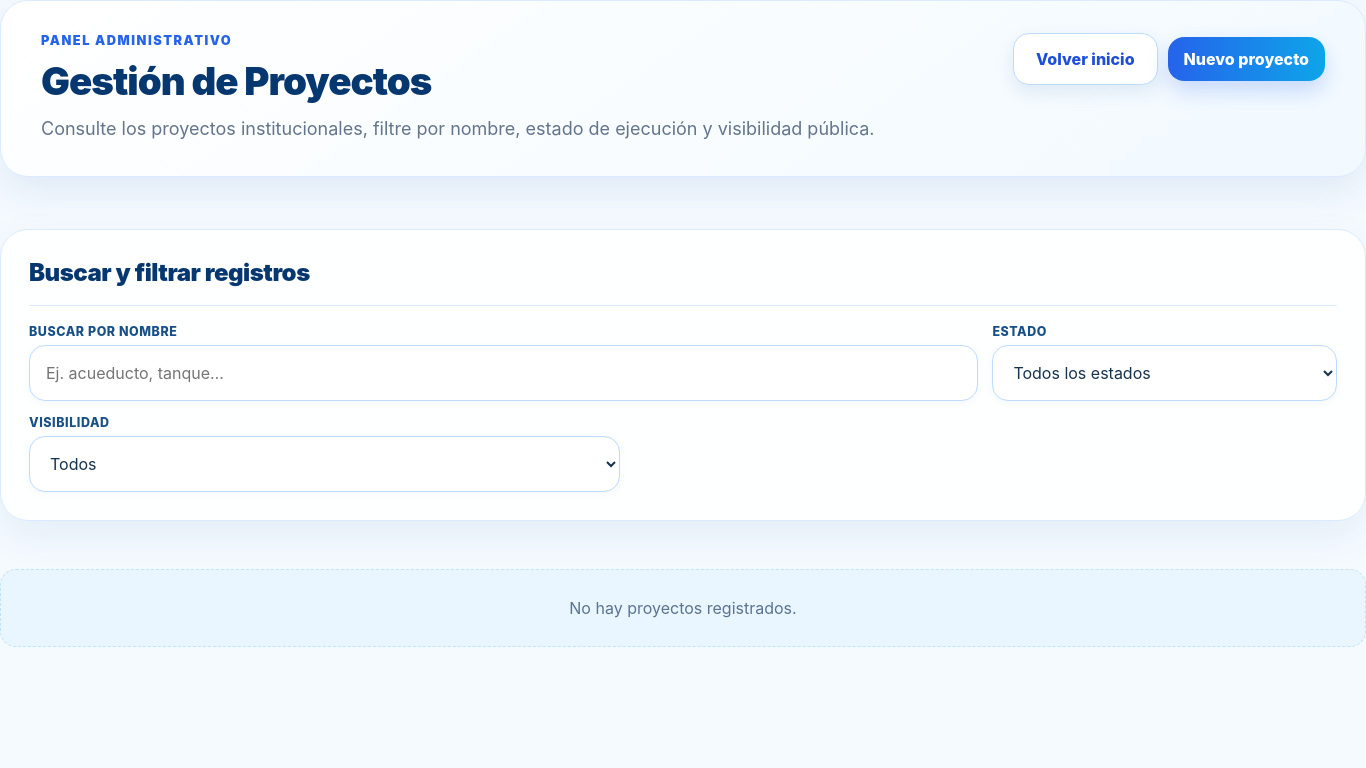
Scenario: ProyectosAdminPage — estados de consulta › muestra vacío por filtros cuando la consulta no tiene coincidencias
This screenshot has width=1366, height=768.
Select "Completado" in the dropdown labelled "Estado" at x=1165, y=373, box x1=992 y1=345 x2=1337 y2=401
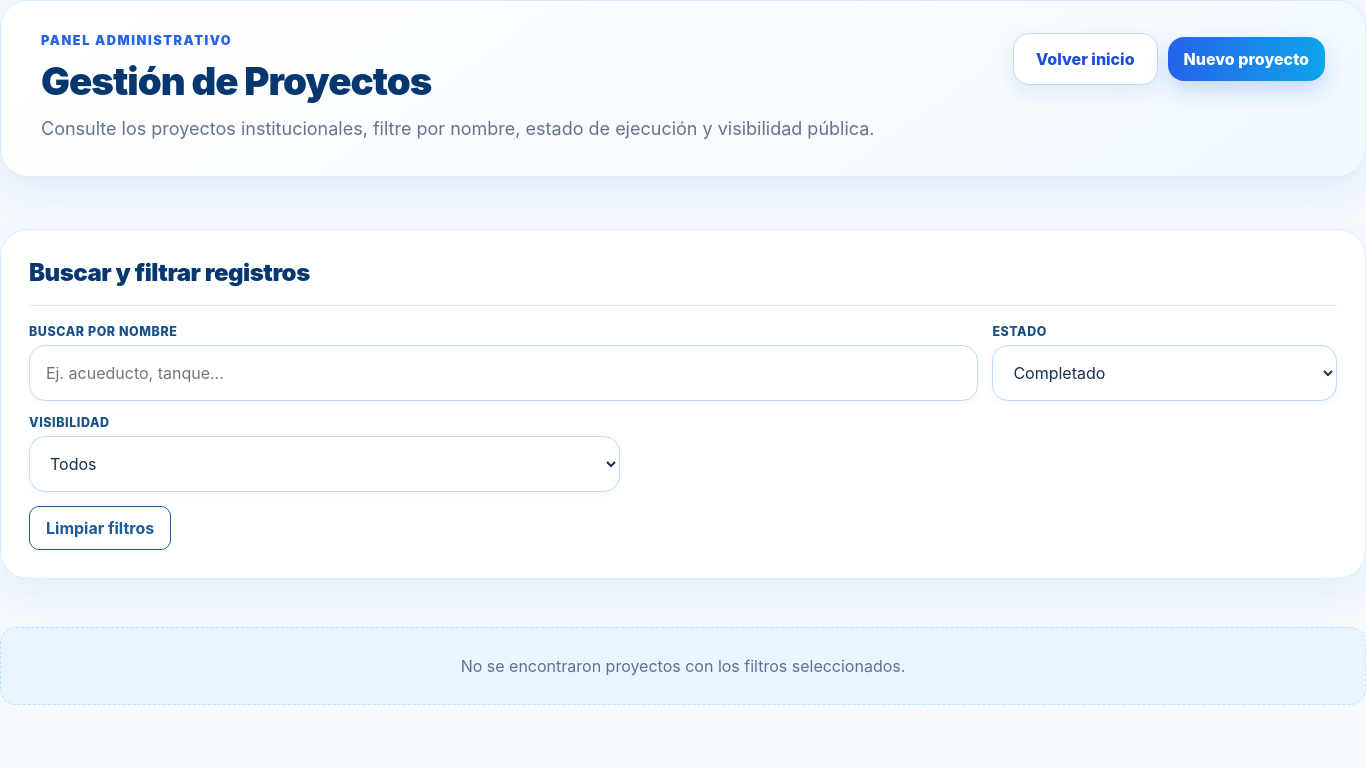
Now the text "No se encontraron proyectos con los filtros seleccionados." is shown, box x1=461 y1=656 x2=905 y2=676
Now the text "No hay proyectos registrados." is gone
